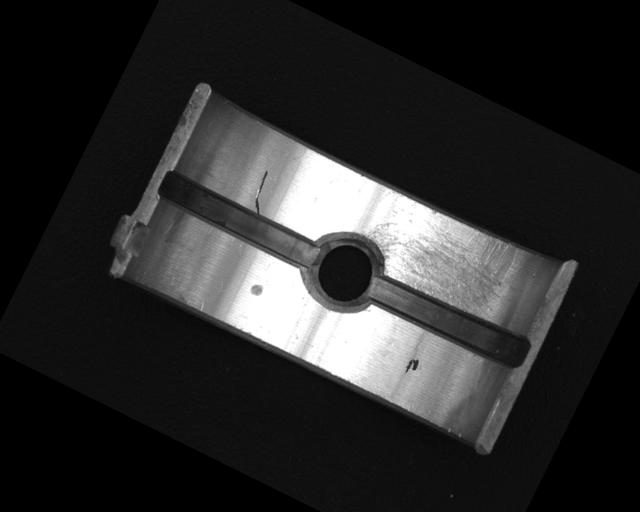blot: (403, 355, 421, 376)
bruise: (248, 281, 265, 299)
gap: (152, 166, 325, 275), (362, 266, 533, 375)
hole: (293, 217, 396, 324)
nick: (245, 169, 277, 216)
scratch: (350, 182, 529, 329)
